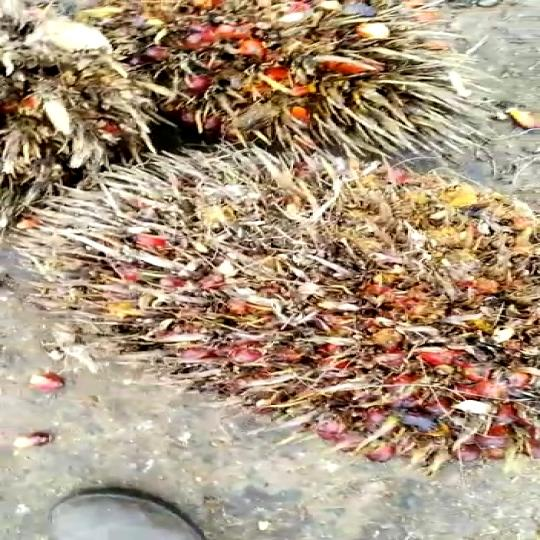terlalu masak: (28, 161, 540, 443), (87, 0, 441, 140)
